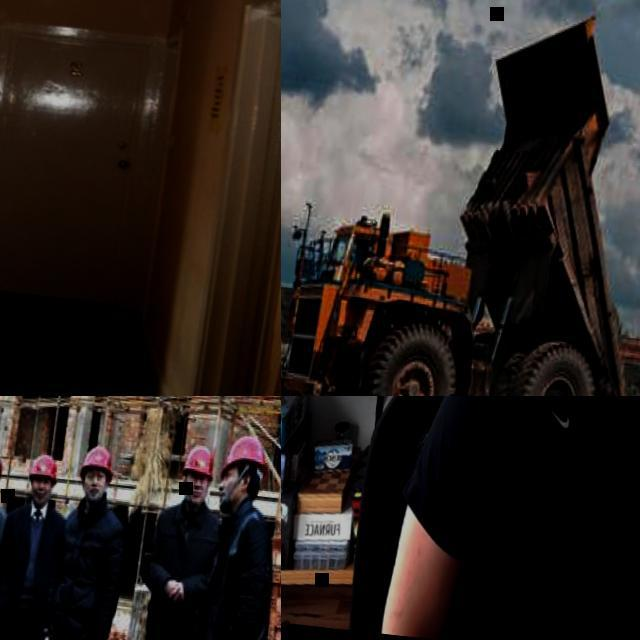helmet: (220, 433, 272, 485), (79, 443, 116, 487), (180, 442, 218, 484), (27, 450, 60, 486)
